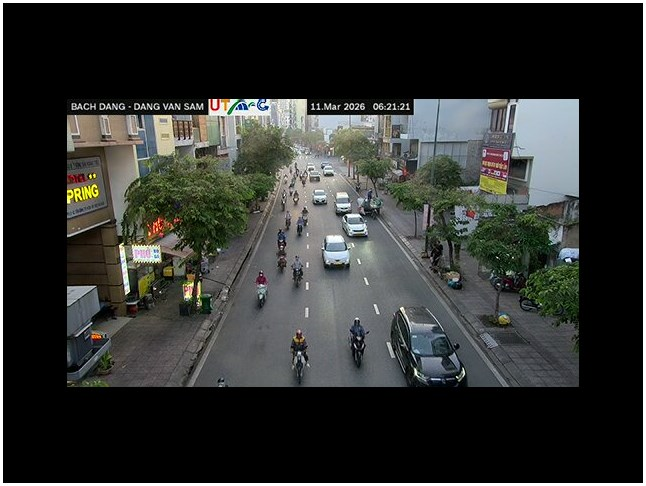car: (388, 303, 467, 387), (321, 233, 351, 269), (341, 213, 368, 238), (335, 191, 352, 215), (558, 247, 578, 264), (446, 272, 464, 289), (312, 189, 328, 206), (321, 163, 335, 176)
motorbike: (255, 285, 268, 309)
truck: (67, 285, 114, 385)
